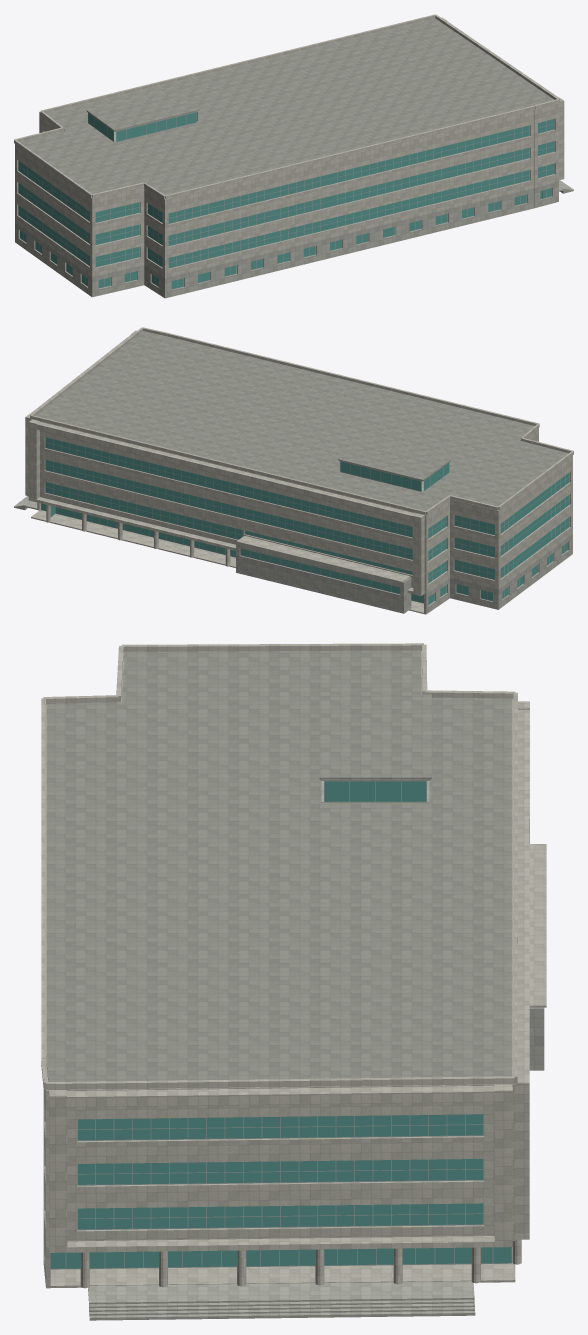
3 views of the same model, one above another, from view 1: azimuth 30°, elevation 25°; view 2: azimuth 150°, elevation 25°; view 3: azimuth 270°, elevation 25° (orthographic). The views are drawn at different scales.
Parts seen in each view (by area): view 1: osm628732512__roof, osm628732512__stone, osm628732512__glass, osm628732512__wall, osm628732512__frame; view 2: osm628732512__roof, osm628732512__stone, osm628732512__glass, osm628732512__wall, osm628732512__frame; view 3: osm628732512__roof, osm628732512__stone, osm628732512__glass, osm628732512__stair-main, osm628732512__frame, osm628732512__threshold-main, osm628732512__wall.
Part boxes in pixels (x1,y1,x2,y2): osm628732512__roof: (19, 18, 554, 195); osm628732512__stone: (14, 14, 564, 298); osm628732512__glass: (18, 112, 554, 289); osm628732512__wall: (15, 110, 558, 297); osm628732512__frame: (18, 112, 554, 289); osm628732512__roof: (35, 331, 568, 510); osm628732512__stone: (25, 327, 573, 614); osm628732512__glass: (41, 437, 569, 604); osm628732512__wall: (236, 460, 572, 613); osm628732512__frame: (41, 437, 569, 605); osm628732512__roof: (46, 650, 512, 1081); osm628732512__stone: (41, 643, 546, 1288); osm628732512__glass: (50, 781, 511, 1268); osm628732512__stair-main: (89, 1296, 475, 1320); osm628732512__frame: (50, 781, 512, 1269); osm628732512__threshold-main: (88, 1281, 474, 1300); osm628732512__wall: (43, 779, 544, 1285).
Bounding box in the file's own units: 91.79 × 21.47 × 42.16.
8 materials, 6 textured.
